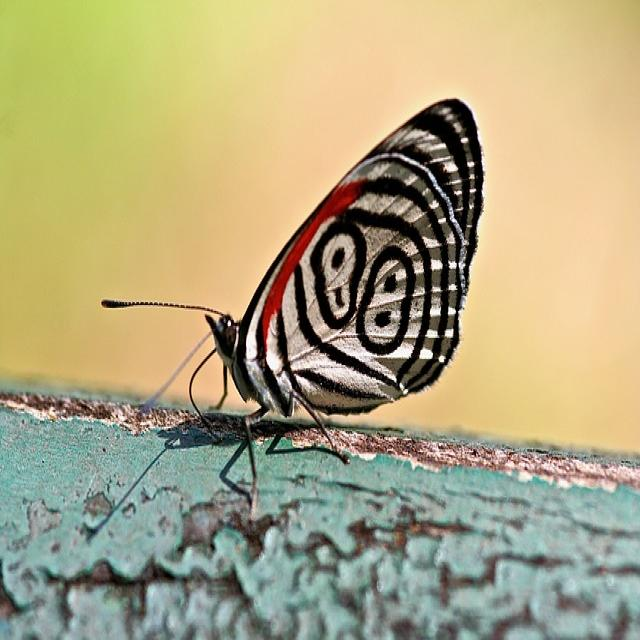butterfly: (104, 99, 486, 425)
